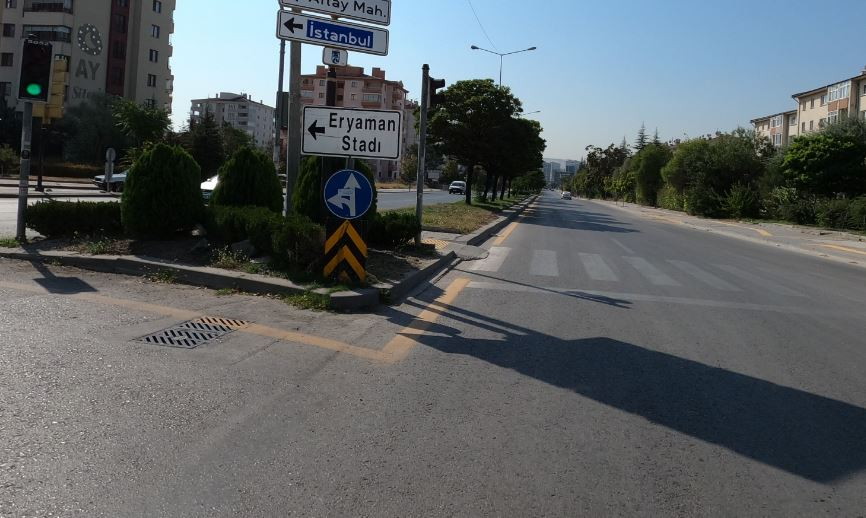ileri ve Sola Mecburi Don: (323, 164, 380, 222)
